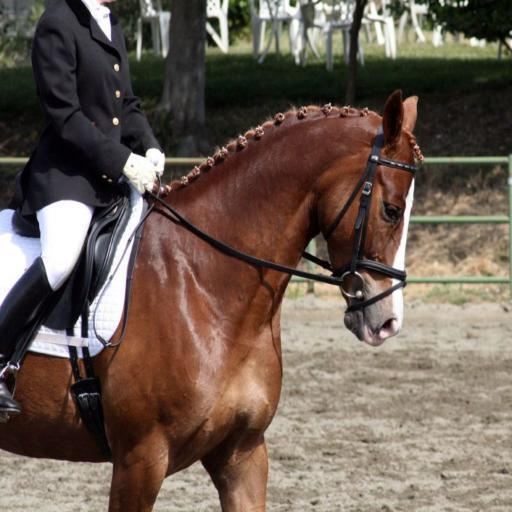horse: (0, 88, 424, 512)
